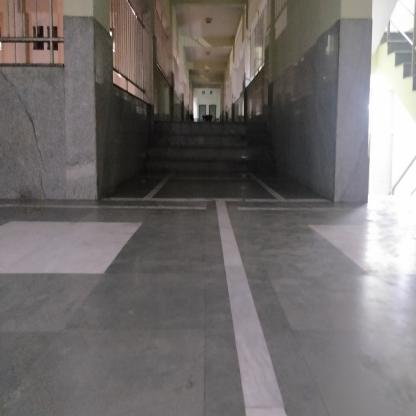stairs: (154, 122, 267, 168)
